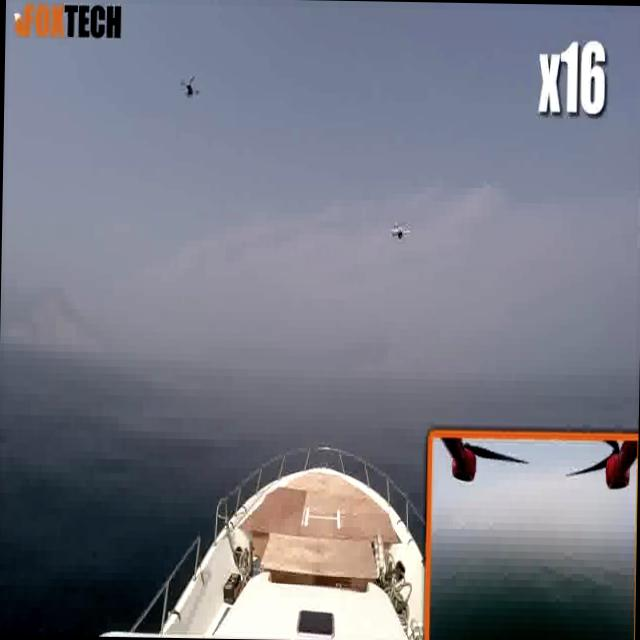drone: (386, 215, 414, 248), (176, 72, 204, 104)
